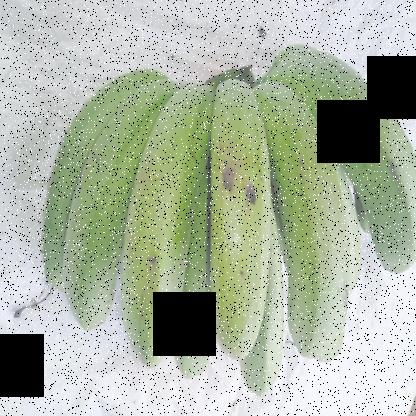unripe: (55, 44, 189, 348), (243, 71, 349, 364), (278, 49, 416, 274), (120, 66, 211, 380), (200, 67, 273, 364)
